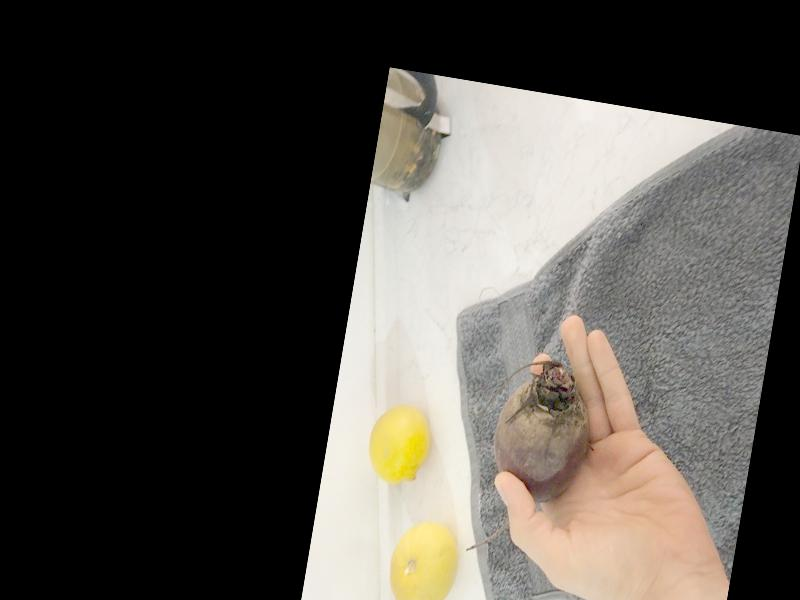Beet: (465, 353, 601, 568)
